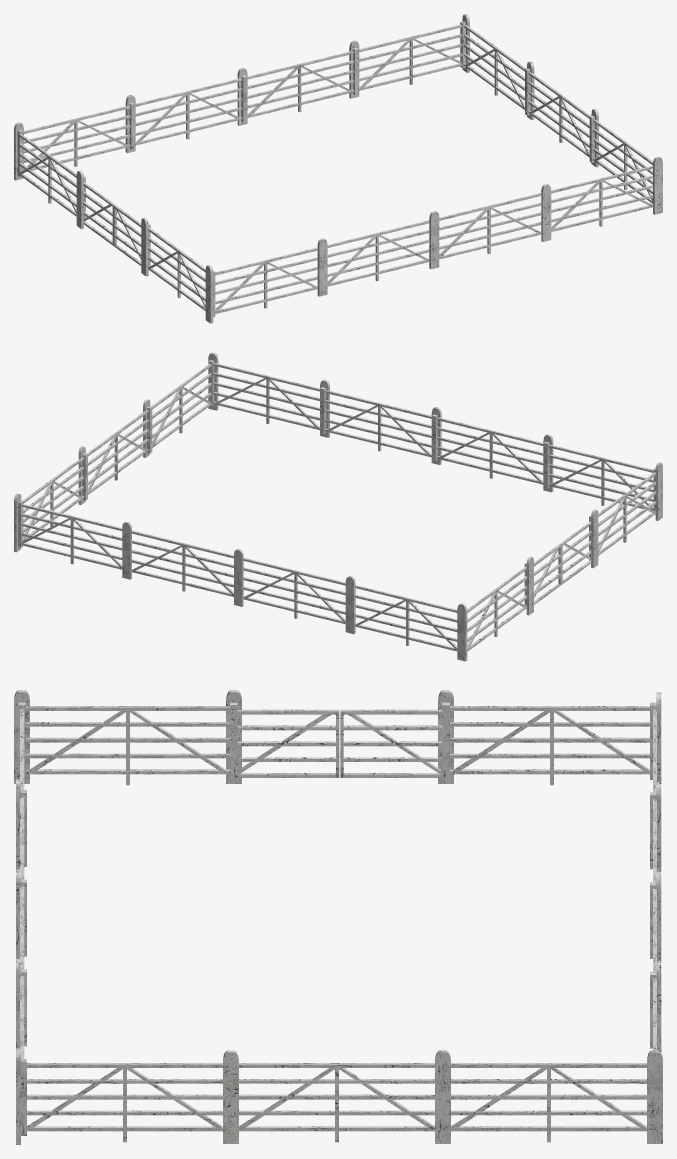
The model's file is F_Fence.fbx.
3 views of the same model, one above another, from view 1: azimuth 30°, elevation 25°; view 2: azimuth 150°, elevation 25°; view 3: azimuth 270°, elevation 25° (orthographic). The views are drawn at different scales.
Parts seen in each view (by area): view 1: F_Fence, F_Fence.001, F_Fence.003; view 2: F_Fence, F_Fence.003, F_Fence.001; view 3: F_Fence, F_Fence.001, F_Fence.003.
Boxes of the visible parts, bbox=[...] form: F_Fence: bbox=[14, 14, 662, 323]; F_Fence.001: bbox=[113, 205, 141, 265]; F_Fence.003: bbox=[83, 182, 115, 245]; F_Fence: bbox=[14, 352, 662, 661]; F_Fence.003: bbox=[534, 544, 561, 604]; F_Fence.001: bbox=[560, 521, 591, 584]; F_Fence: bbox=[14, 690, 662, 1144]; F_Fence.001: bbox=[237, 709, 339, 777]; F_Fence.003: bbox=[340, 709, 442, 777].
Size of the model in its own units: 21.15 by 2.49 by 15.98.
1 material, 1 textured.
